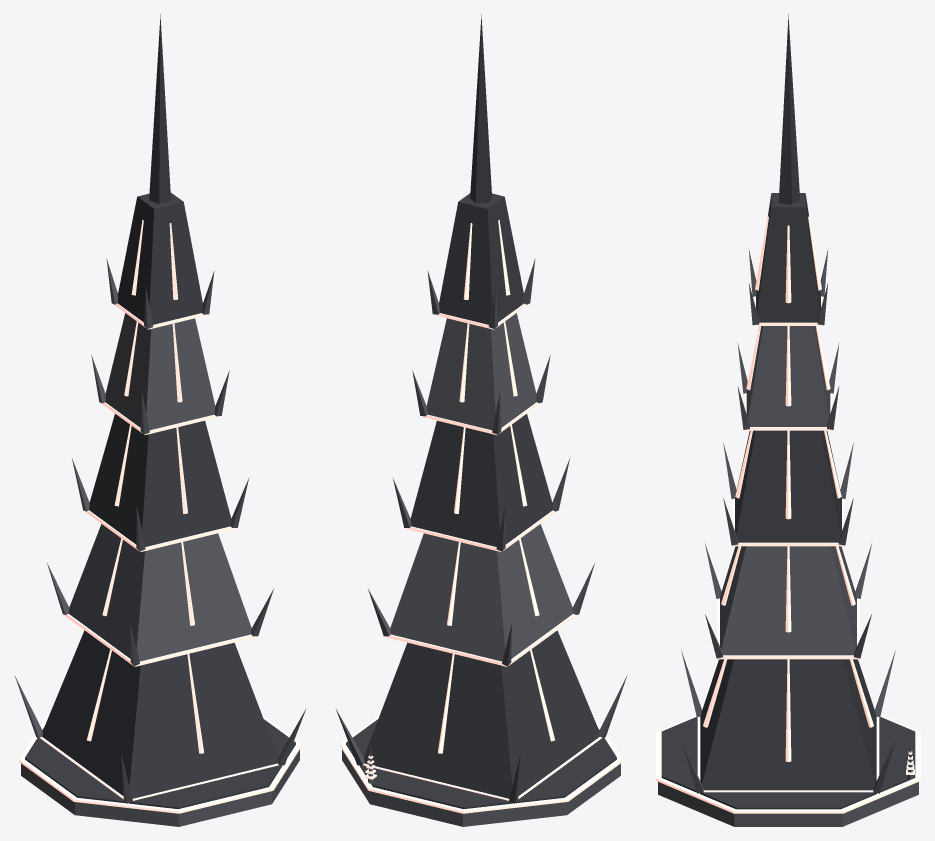
File: zone_high_5_t5.glb
The picture shows the model from 3 angles, left to right: view 1: azimuth 30°, elevation 25°; view 2: azimuth 150°, elevation 25°; view 3: azimuth 270°, elevation 25°; orthographic projection.
Visible parts, largest first — view 1: zone_high_5_t5; view 2: zone_high_5_t5; view 3: zone_high_5_t5.
Boxes of the visible parts, bbox=[...] form: zone_high_5_t5: bbox=[14, 14, 306, 826]; zone_high_5_t5: bbox=[335, 14, 627, 826]; zone_high_5_t5: bbox=[656, 14, 920, 826].
Bounding box in the file's own units: 27.35 × 86.38 × 27.35.
